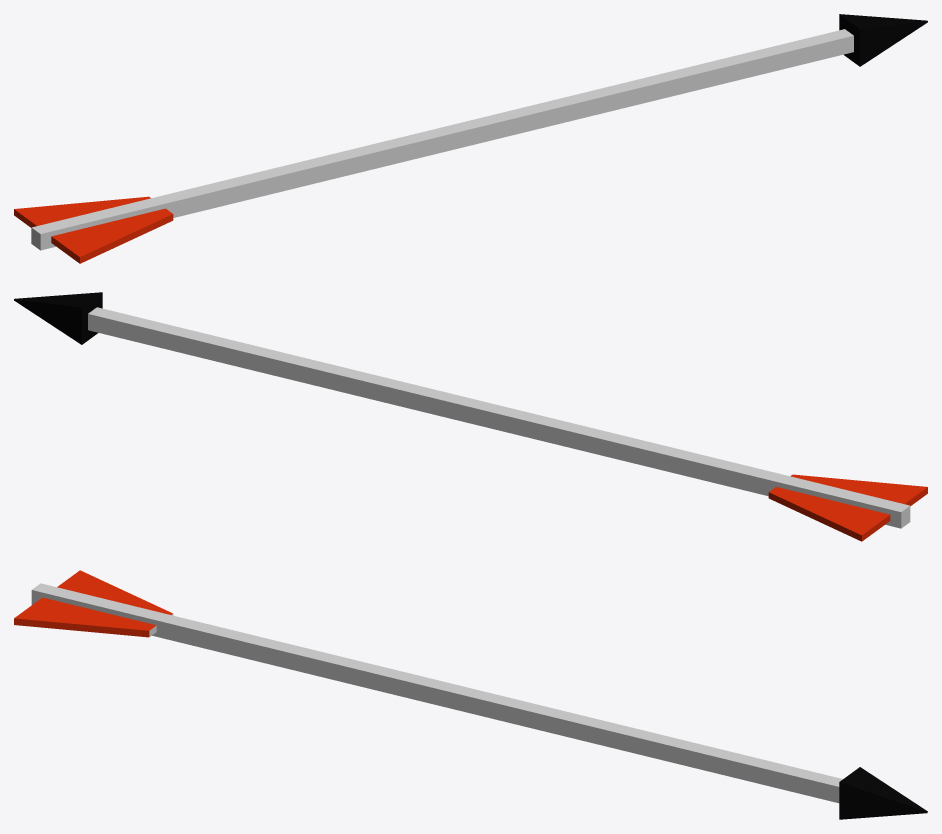
Rendered from Strela.fbx.
3 renders of one model, top to bottom at view 1: azimuth 30°, elevation 25°; view 2: azimuth 150°, elevation 25°; view 3: azimuth 330°, elevation 25°, orthographic.
Parts seen in each view (by area): view 1: Cube; view 2: Cube; view 3: Cube.
Part boxes in pixels (box(x1,y1,x2,y2)): Cube: box(14, 14, 927, 263); Cube: box(14, 292, 927, 541); Cube: box(14, 570, 927, 819).
Bounding box in the file's own units: 11367 × 459 × 1459.
